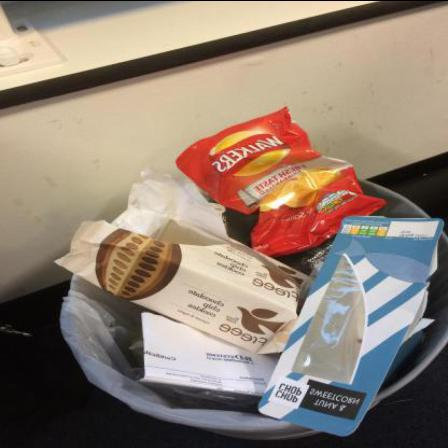Carton: (259, 216, 445, 436), (151, 220, 302, 288)
Paper: (140, 313, 277, 397)
Plastic bag - wrapper: (55, 165, 315, 355), (60, 274, 294, 432), (176, 107, 388, 259), (293, 257, 367, 385)
